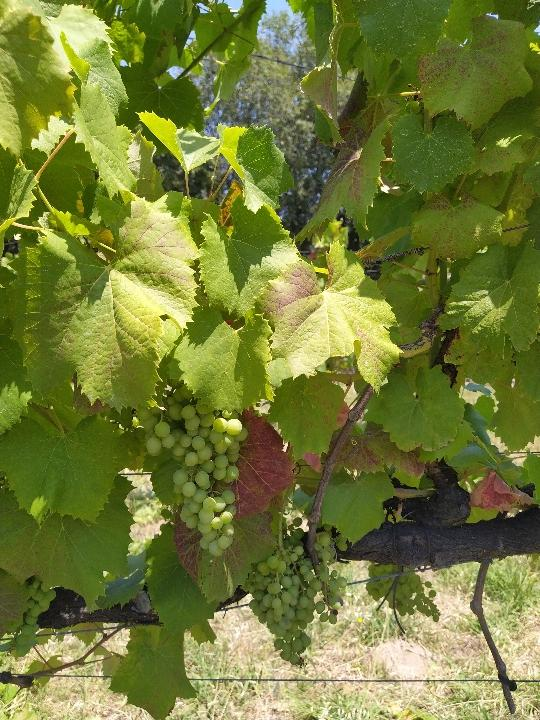grape: (144, 379, 247, 561), (244, 508, 352, 667), (367, 564, 445, 633)
